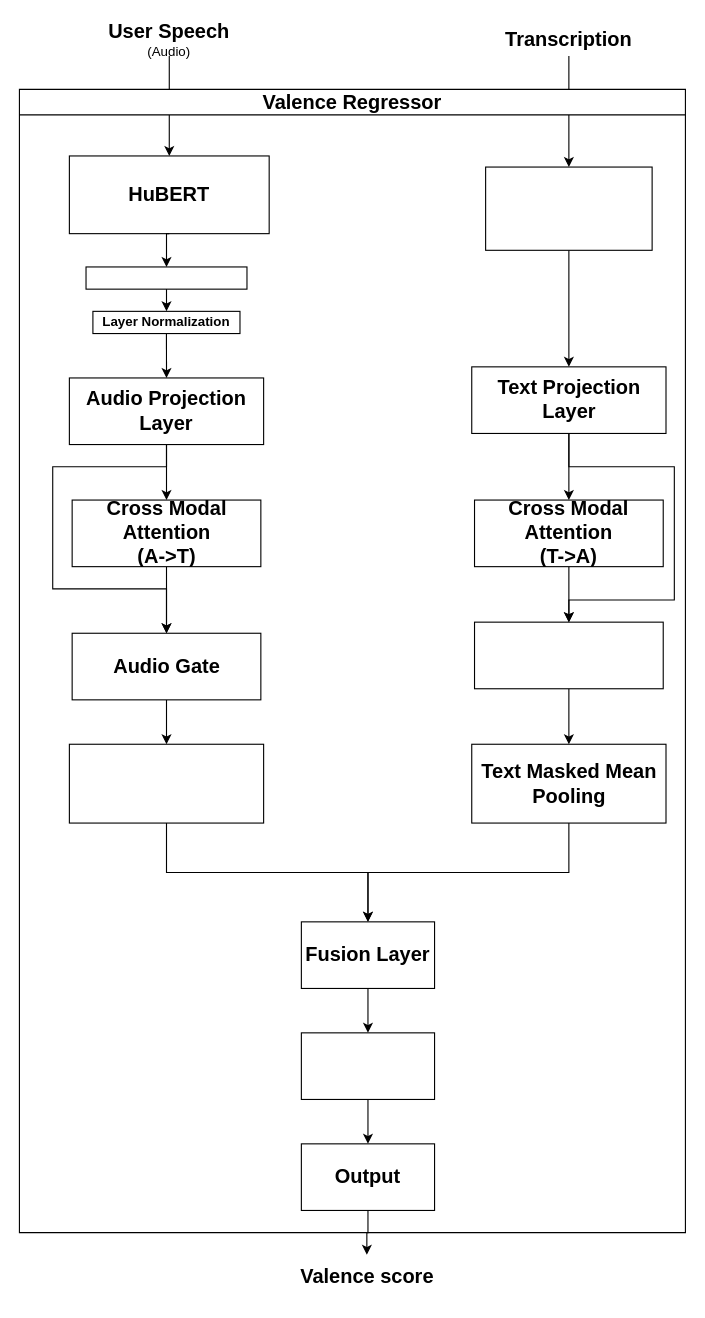
Some shapes in this 705 by 1318 pixel diagram are drawn without their labels. The shapes that lost their labels are listed below. From the top down, each one's box as (x1, y1, x2, y2) in pixels, then its label:
(485, 166, 652, 250): BERT (with self-attention)
(85, 266, 247, 289): Self-Attention
(473, 621, 663, 689): Text Gate
(68, 743, 264, 823): Audio Attention Pooling
(300, 1032, 435, 1099): Shared FC Layer
